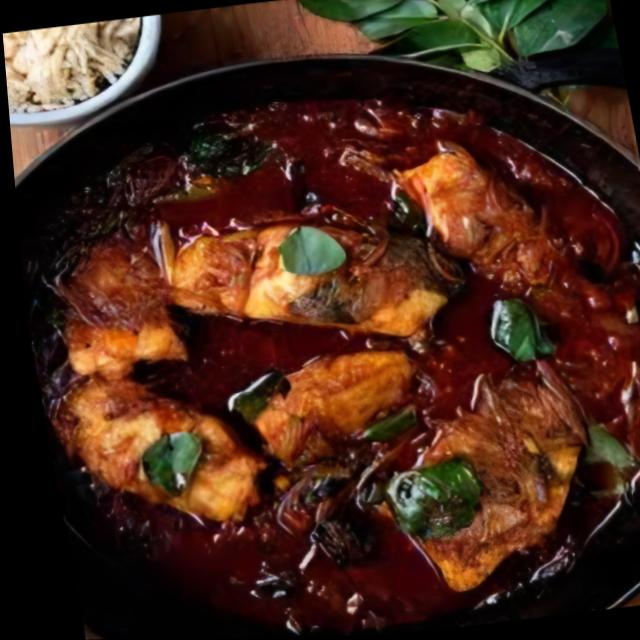FISH CURRY: (20, 97, 640, 637)
RICE: (3, 16, 135, 103)
